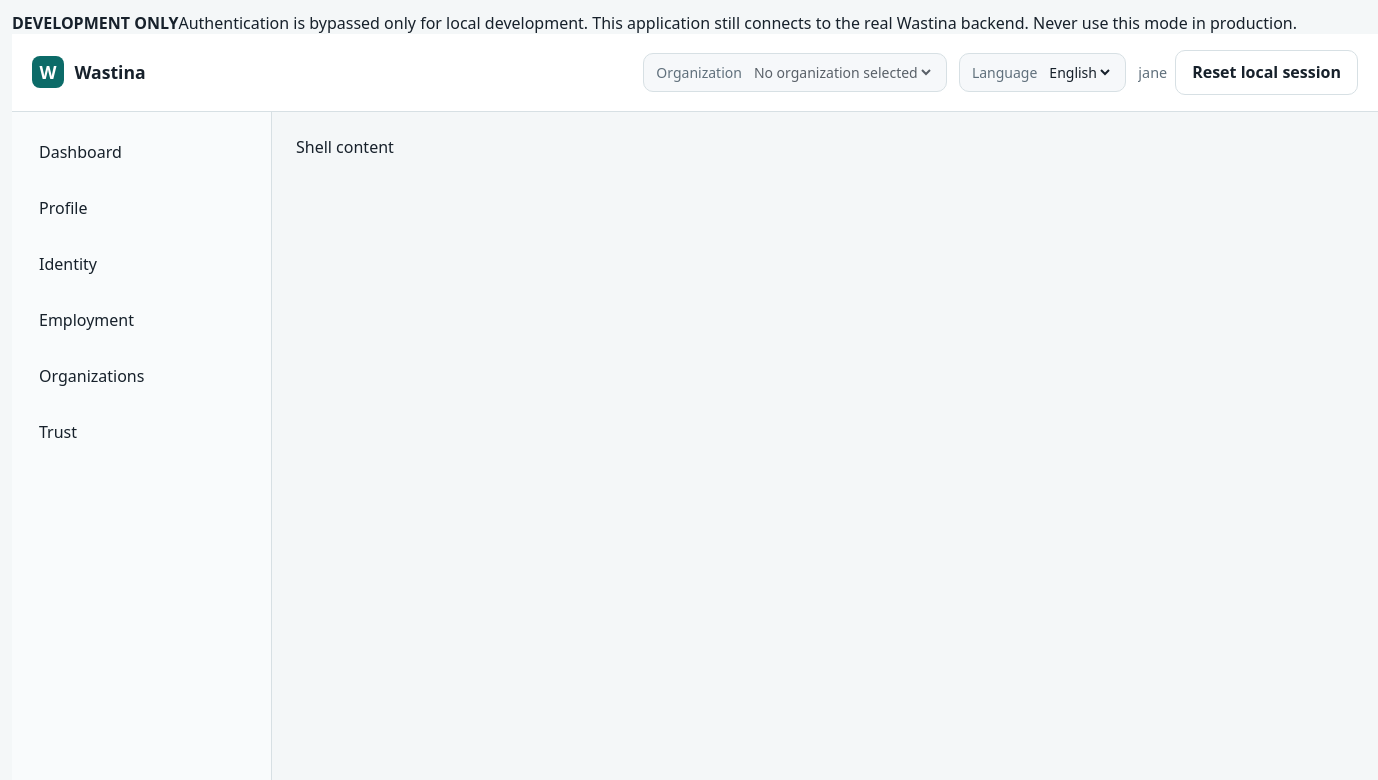
Task 3 shell foundation › updates the html language when the locale changes
The width and height of the screenshot is (1378, 780).
Select "አማርኛ" in the dropdown labelled "Language": [1079, 72] box 1045,62 -> 1113,83
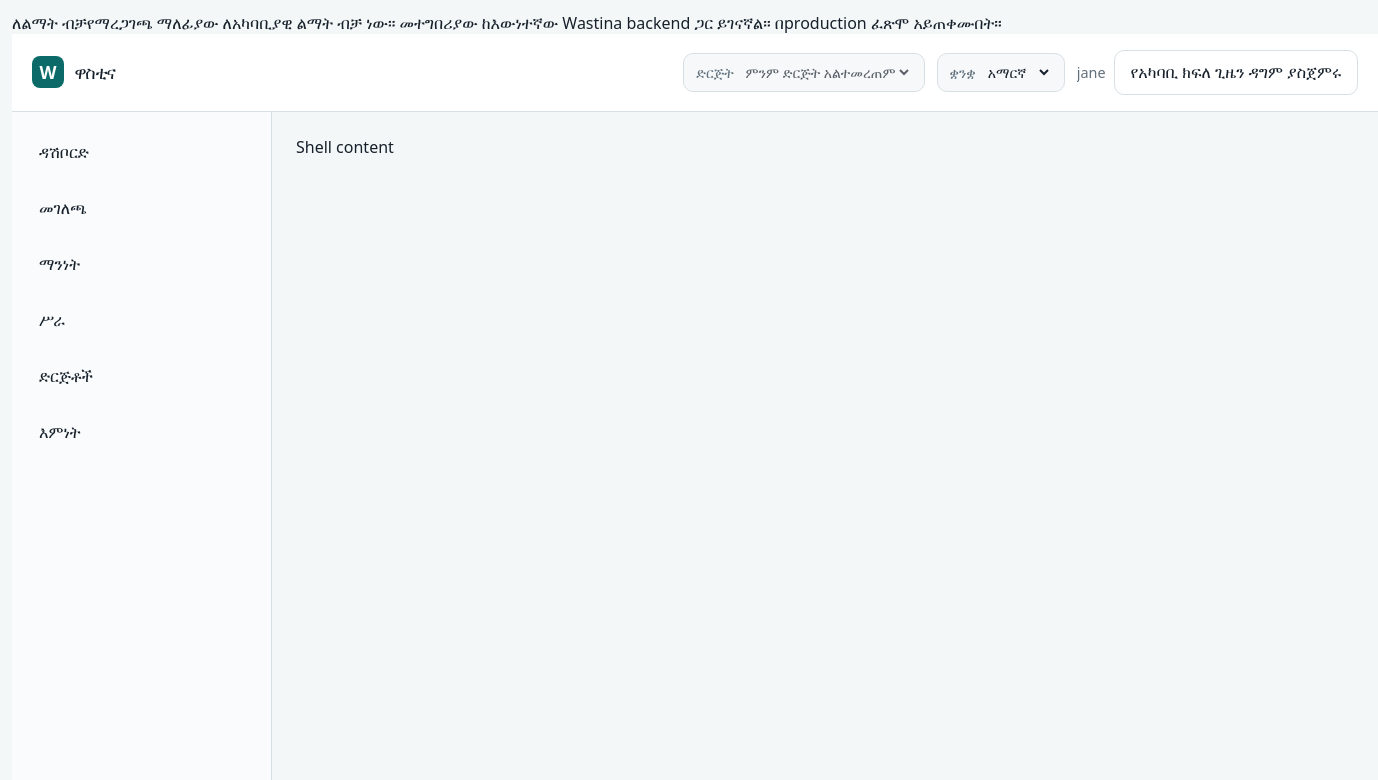
Result: the link "ዳሽቦርድ" is shown at 39,141 -> 89,163
